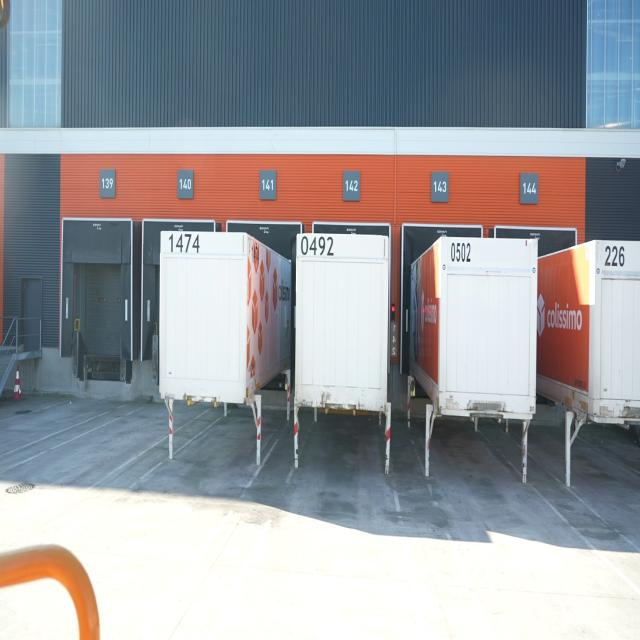Code: (163, 228, 203, 257), (298, 231, 338, 260), (602, 242, 628, 274), (450, 238, 476, 269)
